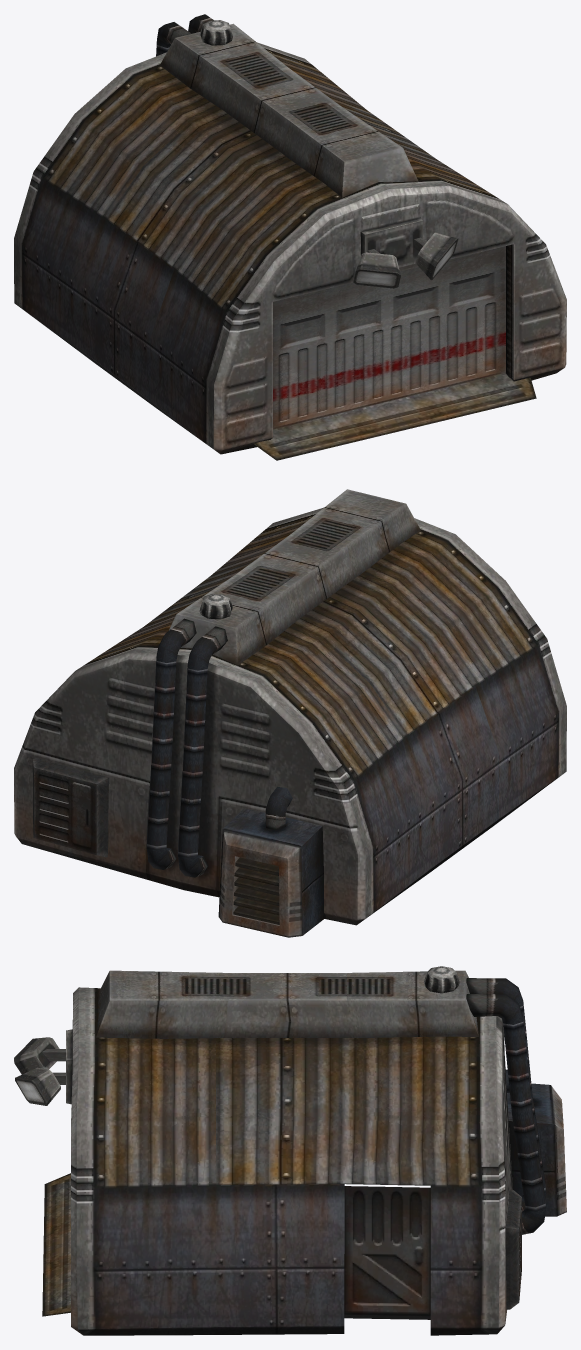
The model's file is garage_00.fbx.
The picture shows the model from 3 angles, top to bottom: view 1: azimuth 30°, elevation 25°; view 2: azimuth 150°, elevation 25°; view 3: azimuth 270°, elevation 25°; orthographic projection. The views are drawn at different scales.
Parts seen in each view (by area): view 1: Geoset_0; view 2: Geoset_0; view 3: Geoset_0.
Part boxes in pixels (box(x1,y1,x2,y2)): Geoset_0: box(14, 14, 566, 460); Geoset_0: box(14, 489, 566, 937); Geoset_0: box(14, 966, 566, 1335).
Size of the model in its own units: 2.98 by 2.17 by 3.87.
1 material, 1 textured.
